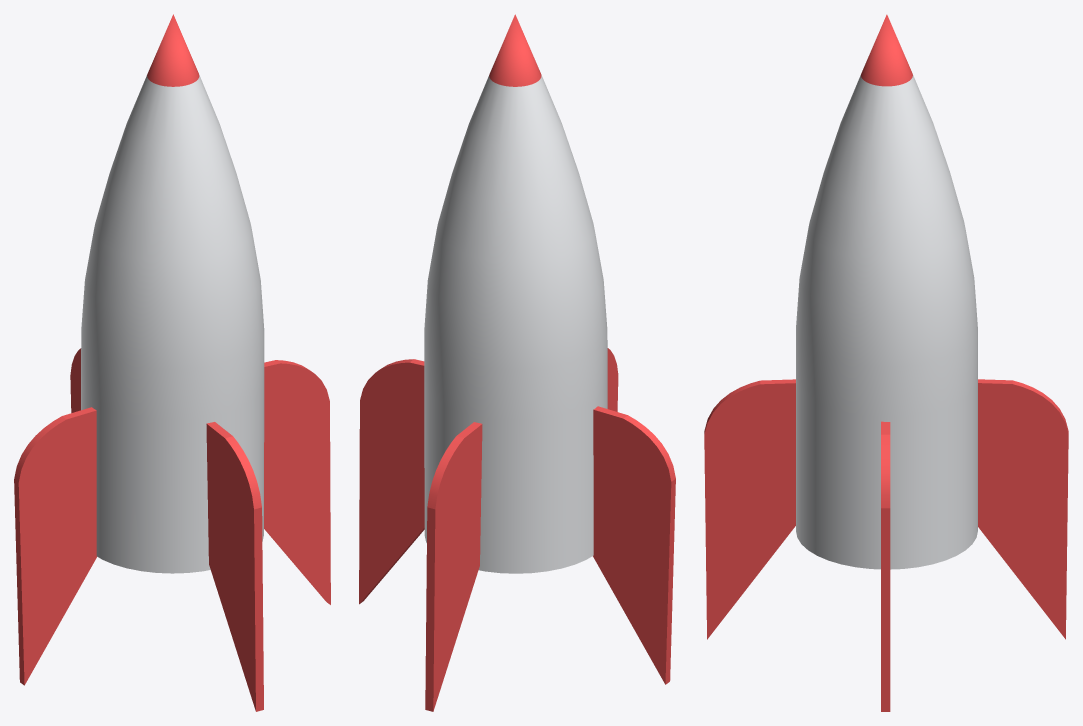
File: rocket.FBX
3 views of the same model, side by side, from view 1: azimuth 30°, elevation 25°; view 2: azimuth 150°, elevation 25°; view 3: azimuth 270°, elevation 25° (orthographic).
Visible parts, largest first — view 1: rocket; view 2: rocket; view 3: rocket.
Part boxes in pixels (x1,y1,x2,y2): rocket: (14,14,330,711); rocket: (359,14,675,711); rocket: (704,14,1068,711).
Bounding box in the file's own units: 4.98 × 9.63 × 5.06.
